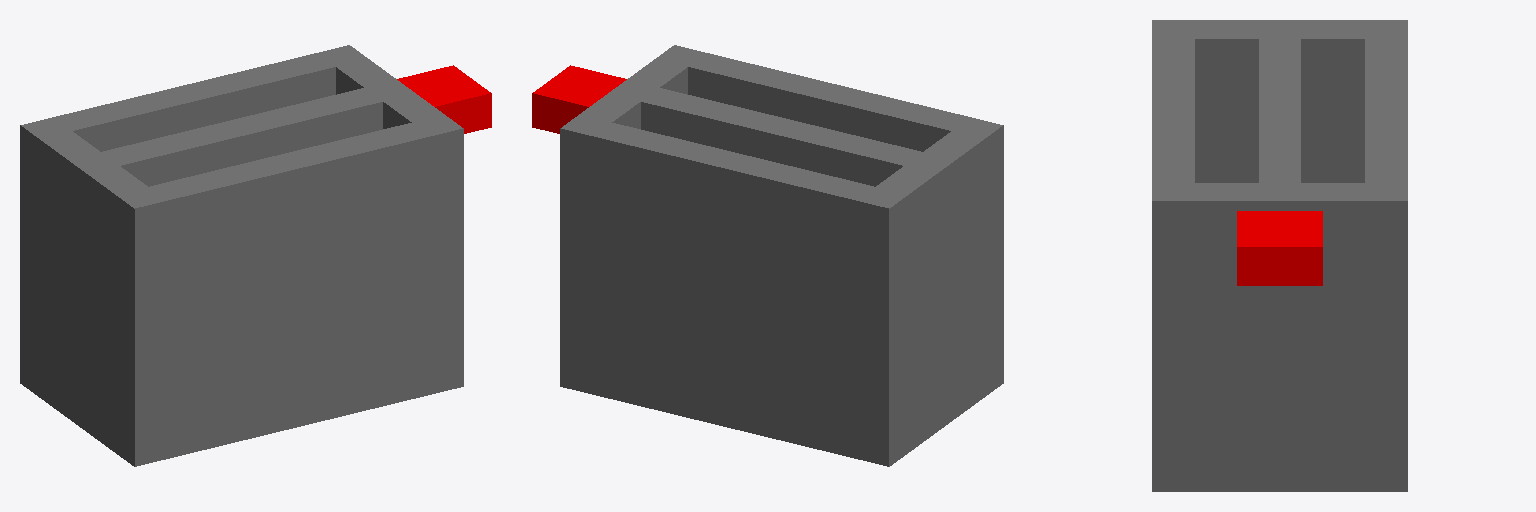
robot.urdf — toaster:
<?xml version="1.0"?>
<robot name="toaster">

  <link name="body">
    <!--
      Body is constructed from multiple box parts to create two hollow bread slots
      (still a single link). Overall envelope ~0.2 x 0.12 x 0.15.
    -->

    <!-- Bottom solid block -->
    <visual>
      <origin xyz="0 0 -0.04" rpy="0 0 0"/>
      <geometry>
        <box size="0.2 0.12 0.07"/>
      </geometry>
      <material name="gray"/>
    </visual>
    <collision>
      <origin xyz="0 0 -0.04" rpy="0 0 0"/>
      <geometry>
        <box size="0.2 0.12 0.07"/>
      </geometry>
    </collision>

    <!-- Outer side walls (upper shell) -->
    <visual>
      <origin xyz="0 0.05 0.035" rpy="0 0 0"/>
      <geometry>
        <box size="0.2 0.02 0.08"/>
      </geometry>
      <material name="gray"/>
    </visual>
    <visual>
      <origin xyz="0 -0.05 0.035" rpy="0 0 0"/>
      <geometry>
        <box size="0.2 0.02 0.08"/>
      </geometry>
      <material name="gray"/>
    </visual>
    <collision>
      <origin xyz="0 0.05 0.035" rpy="0 0 0"/>
      <geometry>
        <box size="0.2 0.02 0.08"/>
      </geometry>
    </collision>
    <collision>
      <origin xyz="0 -0.05 0.035" rpy="0 0 0"/>
      <geometry>
        <box size="0.2 0.02 0.08"/>
      </geometry>
    </collision>

    <!-- Front and back walls (upper shell) -->
    <visual>
      <origin xyz="0.090 0 0.035" rpy="0 0 0"/>
      <geometry>
        <box size="0.02 0.12 0.08"/>
      </geometry>
      <material name="gray"/>
    </visual>
    <visual>
      <origin xyz="-0.090 0 0.035" rpy="0 0 0"/>
      <geometry>
        <box size="0.02 0.12 0.08"/>
      </geometry>
      <material name="gray"/>
    </visual>
    <collision>
      <origin xyz="0.090 0 0.035" rpy="0 0 0"/>
      <geometry>
        <box size="0.02 0.12 0.08"/>
      </geometry>
    </collision>
    <collision>
      <origin xyz="-0.090 0 0.035" rpy="0 0 0"/>
      <geometry>
        <box size="0.02 0.12 0.08"/>
      </geometry>
    </collision>

    <!-- Center divider to create two slots -->
    <visual>
      <origin xyz="0 0 0.035" rpy="0 0 0"/>
      <geometry>
        <box size="0.2 0.02 0.08"/>
      </geometry>
      <material name="gray"/>
    </visual>
    <collision>
      <origin xyz="0 0 0.035" rpy="0 0 0"/>
      <geometry>
        <box size="0.2 0.02 0.08"/>
      </geometry>
    </collision>


    <inertial>
      <mass value="1"/>
      <inertia ixx="1" ixy="0.0" ixz="0.0" iyy="1" iyz="0.0" izz="1"/>
    </inertial>
  </link>

  <link name="handle">
    <contact>
      <lateral_friction value="2.0"/>
      <spinning_friction value="0.01"/>
    </contact>
    <visual>
      <geometry>
        <box size="0.04 0.04 0.02"/>
      </geometry>
      <material name="red"/>
    </visual>
    <collision>
      <geometry>
        <box size="0.04 0.04 0.02"/>
      </geometry>
    </collision>
    <inertial>
      <mass value="0.1"/>
      <inertia ixx="0.001" ixy="0.0" ixz="0.0" iyy="0.001" iyz="0.0" izz="0.001"/>
    </inertial>
  </link>

  <joint name="slider" type="prismatic">
    <axis xyz="0 0 1"/>
    <limit effort="1000.0" lower="-0.08" upper="0.0" velocity="40"/>
    <parent link="body"/>
    <child link="handle"/>
    <dynamics damping="0.01" friction="0.01"/>
    <origin xyz="0.12 0.00 0.06"/>
  </joint>

  <material name="gray">
    <color rgba="0.5 0.5 0.5 1"/>
  </material>

  <material name="white">
    <color rgba="1 1 1 1"/>
  </material>

  <material name="red">
    <color rgba="1 0 0 1"/>
  </material>

  <material name="black">
    <color rgba="0.1 0.1 0.1 1"/>
  </material>

</robot>

--- Render facts (derived) ---
Views: 3 orthographic renders of the robot side by side, from view 1: azimuth 30°, elevation 25°; view 2: azimuth 150°, elevation 25°; view 3: azimuth 270°, elevation 25°.
Model toaster with 2 links and 1 joints (1 prismatic), rooted at body, posed every joint at zero.
Visible links, largest first — view 1: body, handle; view 2: body, handle; view 3: body, handle.
Link boxes in pixels (x1,y1,x2,y2): body: [20, 45, 463, 466]; handle: [397, 65, 491, 133]; body: [560, 45, 1003, 466]; handle: [532, 65, 626, 133]; body: [1152, 20, 1407, 491]; handle: [1237, 211, 1322, 285].
Bounding box of the posed robot: 0.24 × 0.12 × 0.15 m (x, y, z).
Geometry: primitives only (box / cylinder / sphere), no mesh files.